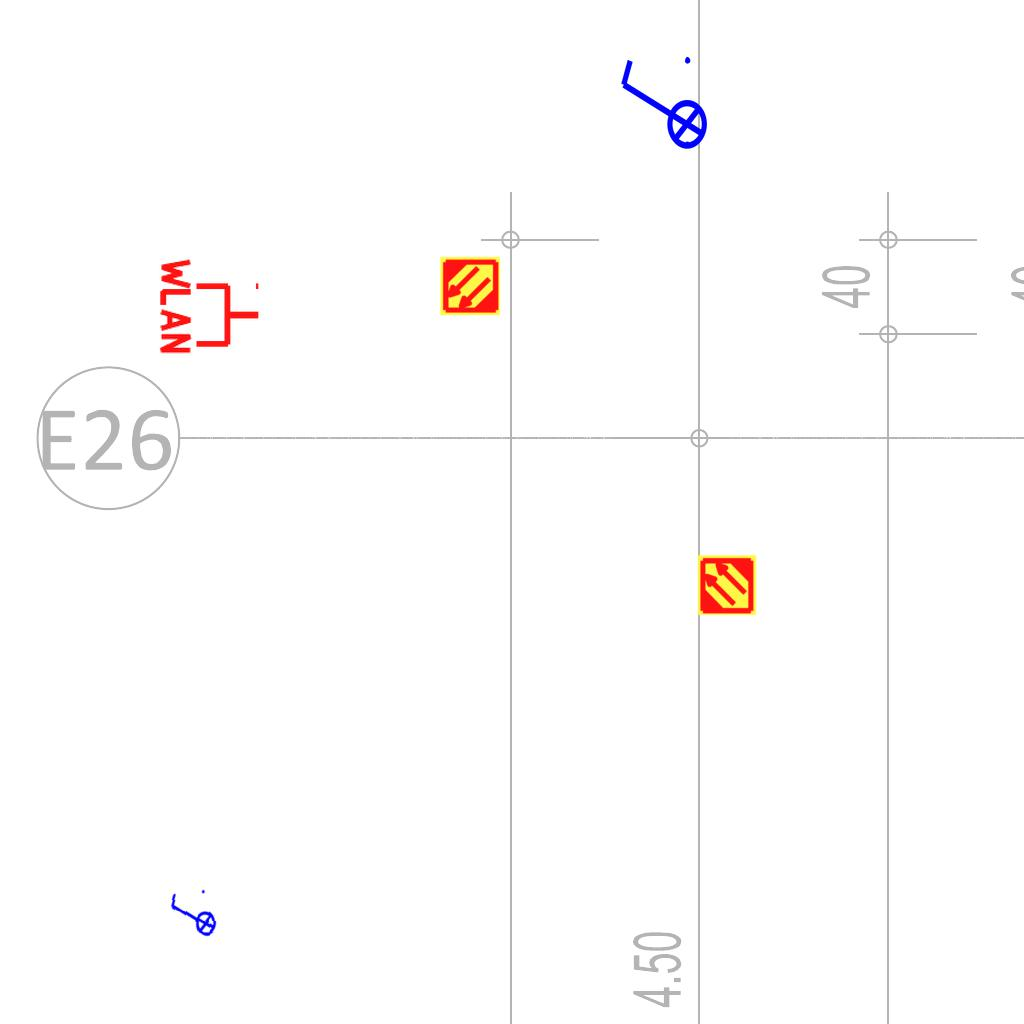ASR_Ansaugrauchmelder: (696, 554, 758, 616), (439, 255, 501, 317)
Ausschalter_beleuchtet: (613, 51, 709, 163), (165, 886, 219, 946)
WLAN: (158, 254, 263, 358)
